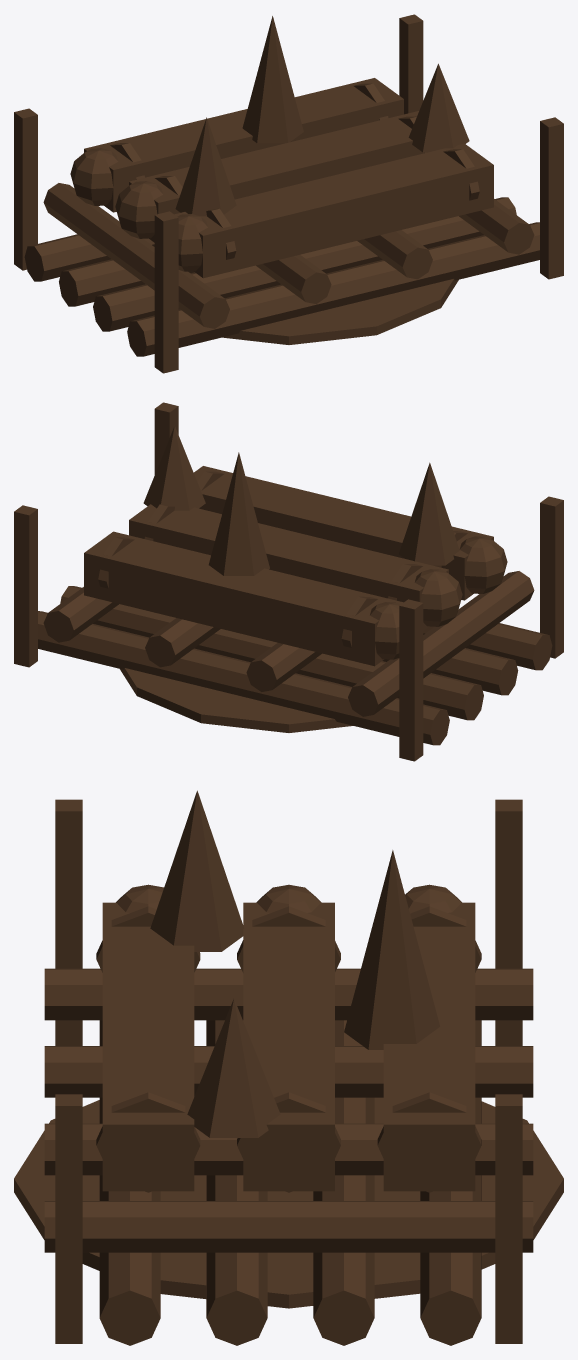
The model's file is aldrich_mass_pyre.obj.
The picture shows the model from 3 angles, top to bottom: view 1: azimuth 30°, elevation 25°; view 2: azimuth 150°, elevation 25°; view 3: azimuth 270°, elevation 25°; orthographic projection. The views are drawn at different scales.
Visible parts, largest first — view 1: aldrich_mass_pyre; view 2: aldrich_mass_pyre; view 3: aldrich_mass_pyre.
Boxes of the visible parts, x1,y1,x2,y2 form: aldrich_mass_pyre: (14, 14, 563, 373); aldrich_mass_pyre: (14, 402, 563, 761); aldrich_mass_pyre: (14, 790, 563, 1345).
Bounding box in the file's own units: 2.4 × 1.28 × 1.8.
